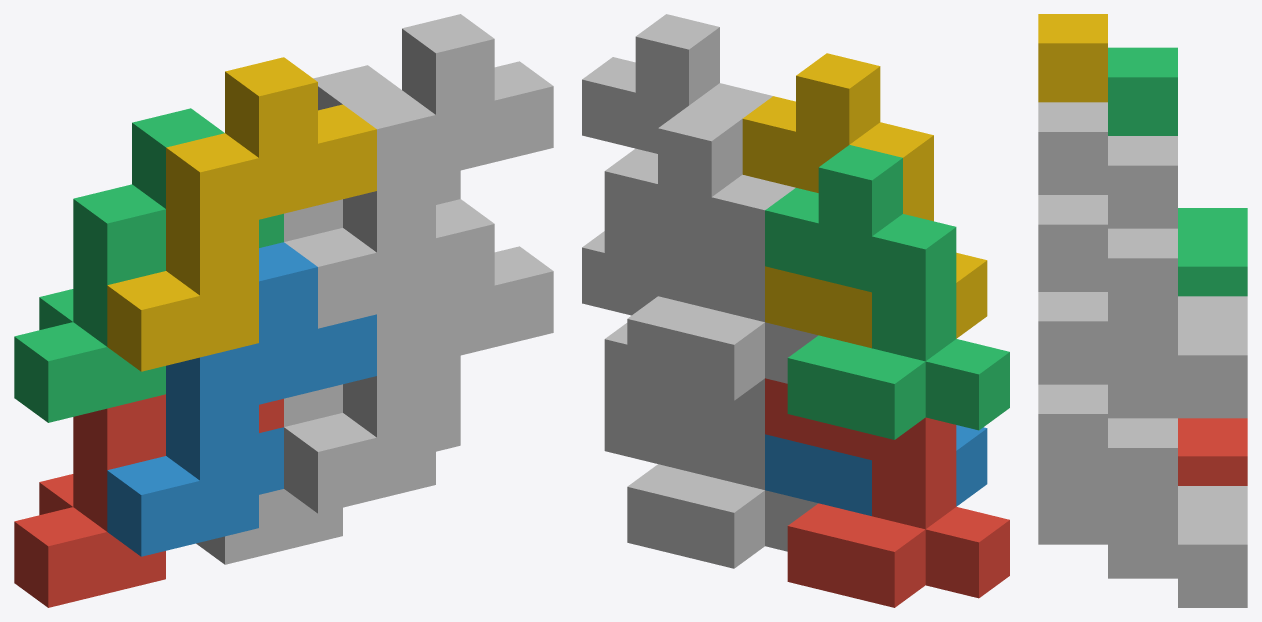
File: tiling.obj
The picture shows the model from 3 angles, left to right: view 1: azimuth 30°, elevation 25°; view 2: azimuth 150°, elevation 25°; view 3: azimuth 270°, elevation 25°; orthographic projection. The views are drawn at different scales.
Parts seen in each view (by area): view 1: copy_1_domain_4, copy_1_domain_8, copy_1_domain_2, copy_1_domain_6, copy_1_domain_3, copy_1_domain_1, copy_1_domain_5, copy_1_domain_7; view 2: copy_1_domain_3, copy_1_domain_7, copy_1_domain_1, copy_1_domain_4, copy_1_domain_5, copy_1_domain_8, copy_1_domain_6, copy_1_domain_2; view 3: copy_1_domain_6, copy_1_domain_7, copy_1_domain_5, copy_1_domain_8, copy_1_domain_3, copy_1_domain_4, copy_1_domain_1.
Part boxes in pixels (bbox=[...]): copy_1_domain_4: bbox=[107, 57, 376, 371]; copy_1_domain_8: bbox=[284, 14, 553, 328]; copy_1_domain_2: bbox=[107, 242, 376, 556]; copy_1_domain_6: bbox=[284, 199, 553, 513]; copy_1_domain_3: bbox=[14, 108, 283, 422]; copy_1_domain_1: bbox=[14, 394, 283, 607]; copy_1_domain_5: bbox=[196, 355, 460, 564]; copy_1_domain_7: bbox=[284, 65, 460, 241]; copy_1_domain_3: bbox=[765, 145, 1009, 439]; copy_1_domain_7: bbox=[604, 105, 817, 400]; copy_1_domain_1: bbox=[765, 378, 1009, 607]; copy_1_domain_4: bbox=[742, 53, 987, 348]; copy_1_domain_5: bbox=[604, 323, 817, 568]; copy_1_domain_8: bbox=[582, 14, 772, 308]; copy_1_domain_6: bbox=[582, 231, 711, 476]; copy_1_domain_2: bbox=[765, 425, 987, 516]; copy_1_domain_6: bbox=[1038, 292, 1177, 574]; copy_1_domain_7: bbox=[1108, 136, 1247, 418]; copy_1_domain_5: bbox=[1108, 384, 1247, 607]; copy_1_domain_8: bbox=[1038, 102, 1177, 384]; copy_1_domain_3: bbox=[1108, 47, 1247, 296]; copy_1_domain_4: bbox=[1038, 14, 1107, 102]; copy_1_domain_1: bbox=[1178, 418, 1247, 485].
Size of the model in its own units: 8 by 8 by 3.
